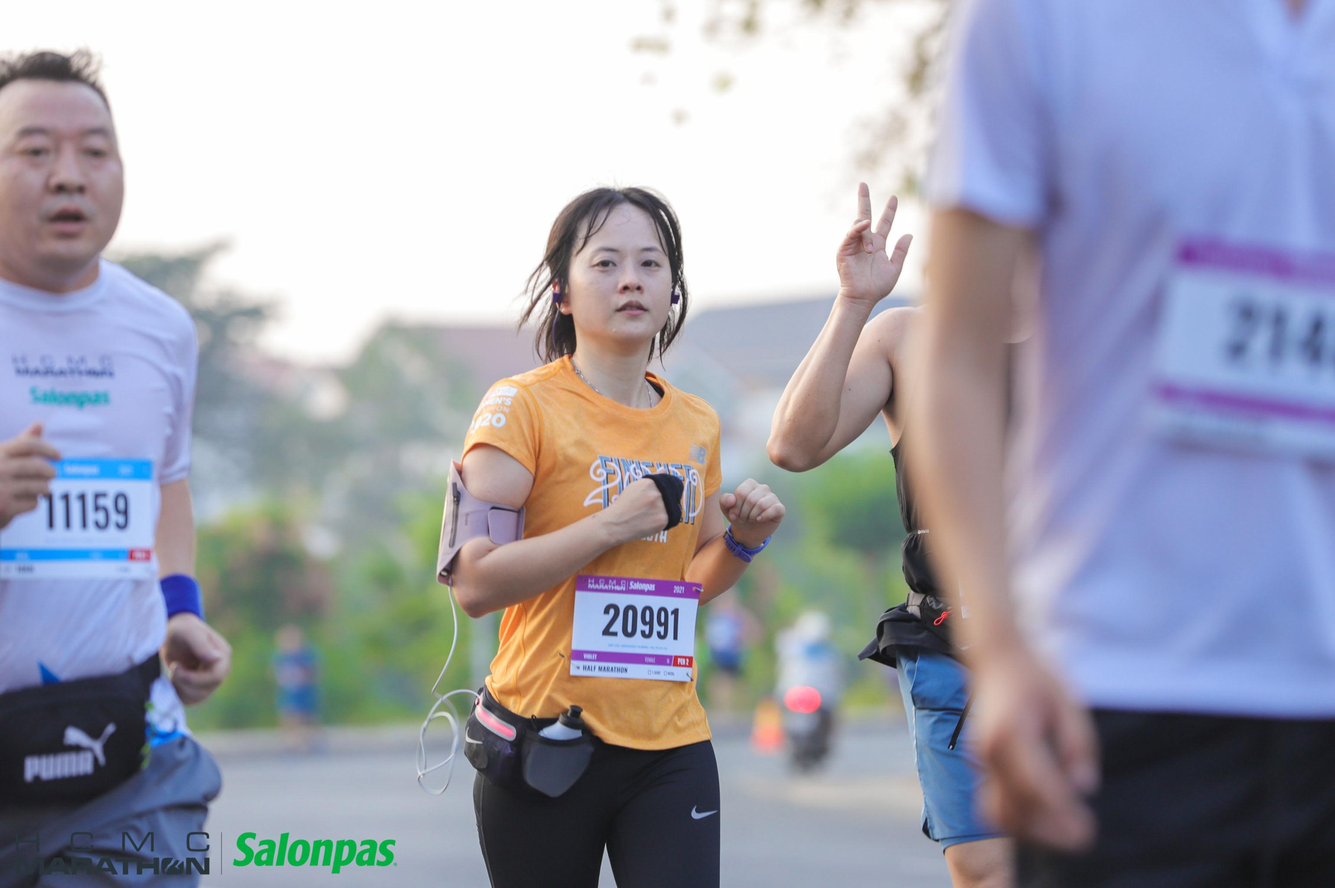bib: (1154, 229, 1335, 460), (0, 461, 158, 578), (569, 576, 707, 685)
